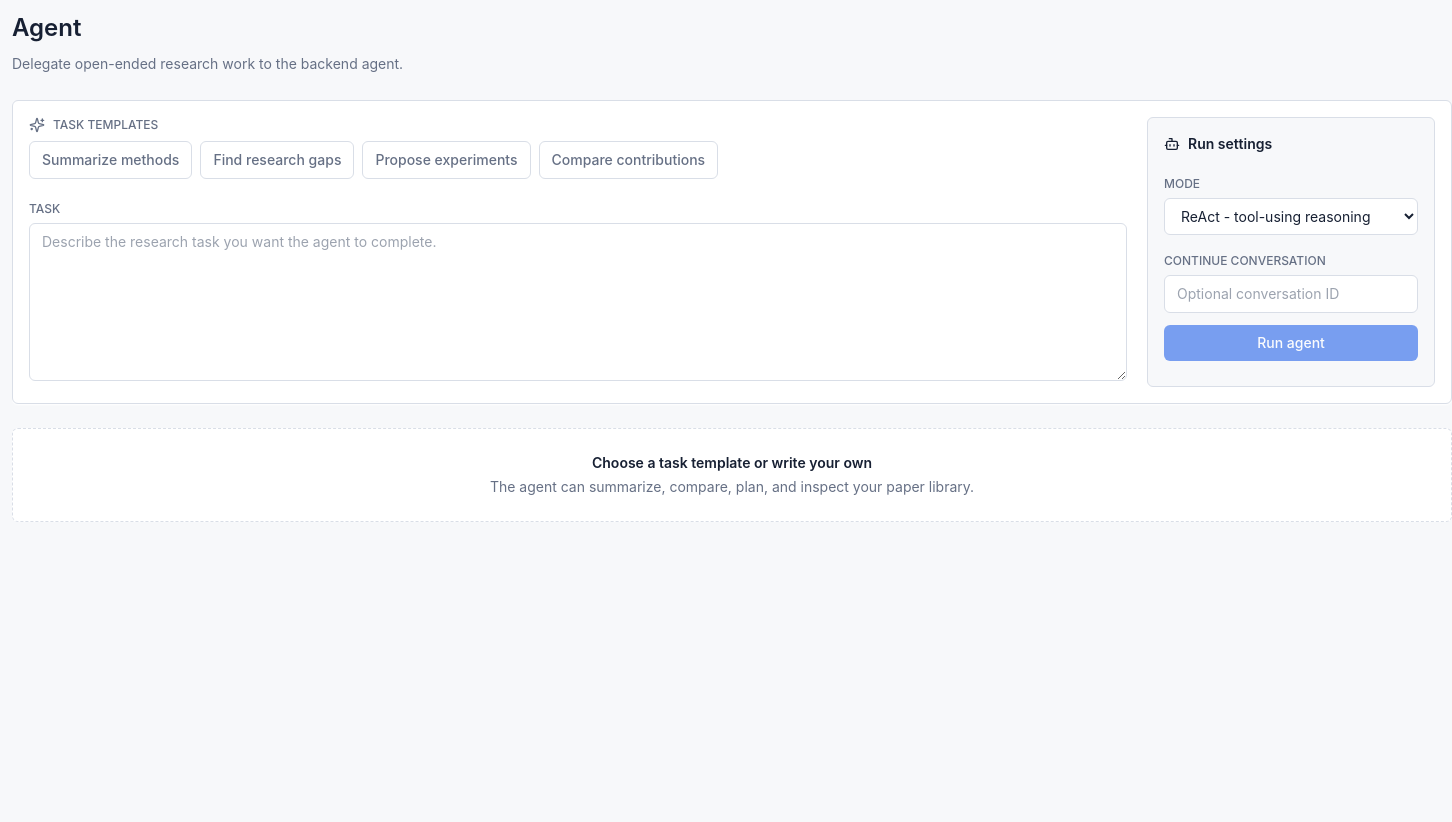
Test case: AgentPage › executes an agent task
Click the button "Summarize methods" at (111, 160), box x1=29 y1=141 x2=192 y2=179
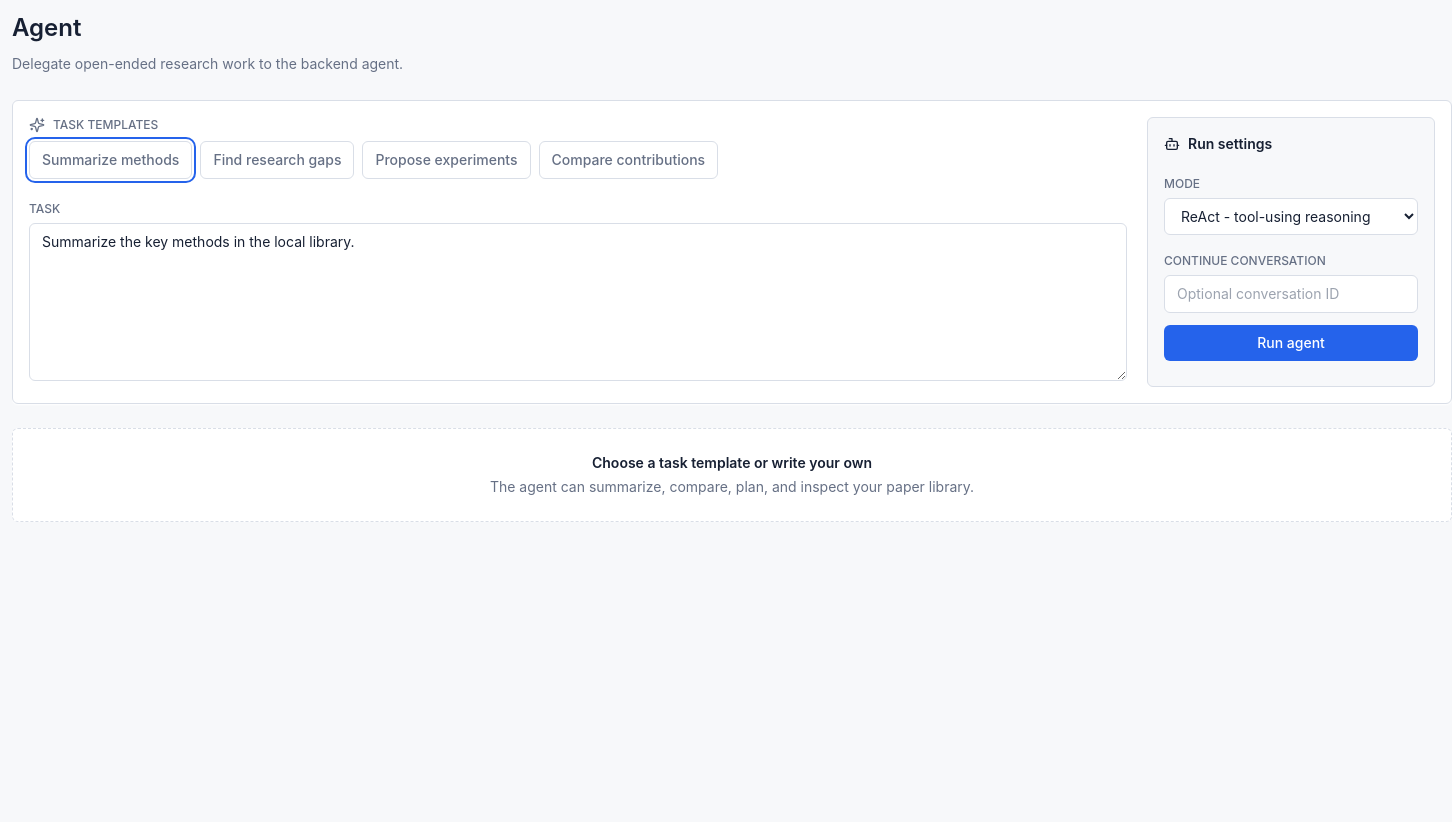
Now the text box showing "Summarize the key methods in the local library." is shown
Replace the text in the text box with placeholder "Describe the research task you want the agent to complete." with "Summarize papers" at (578, 302), box x1=29 y1=223 x2=1127 y2=381
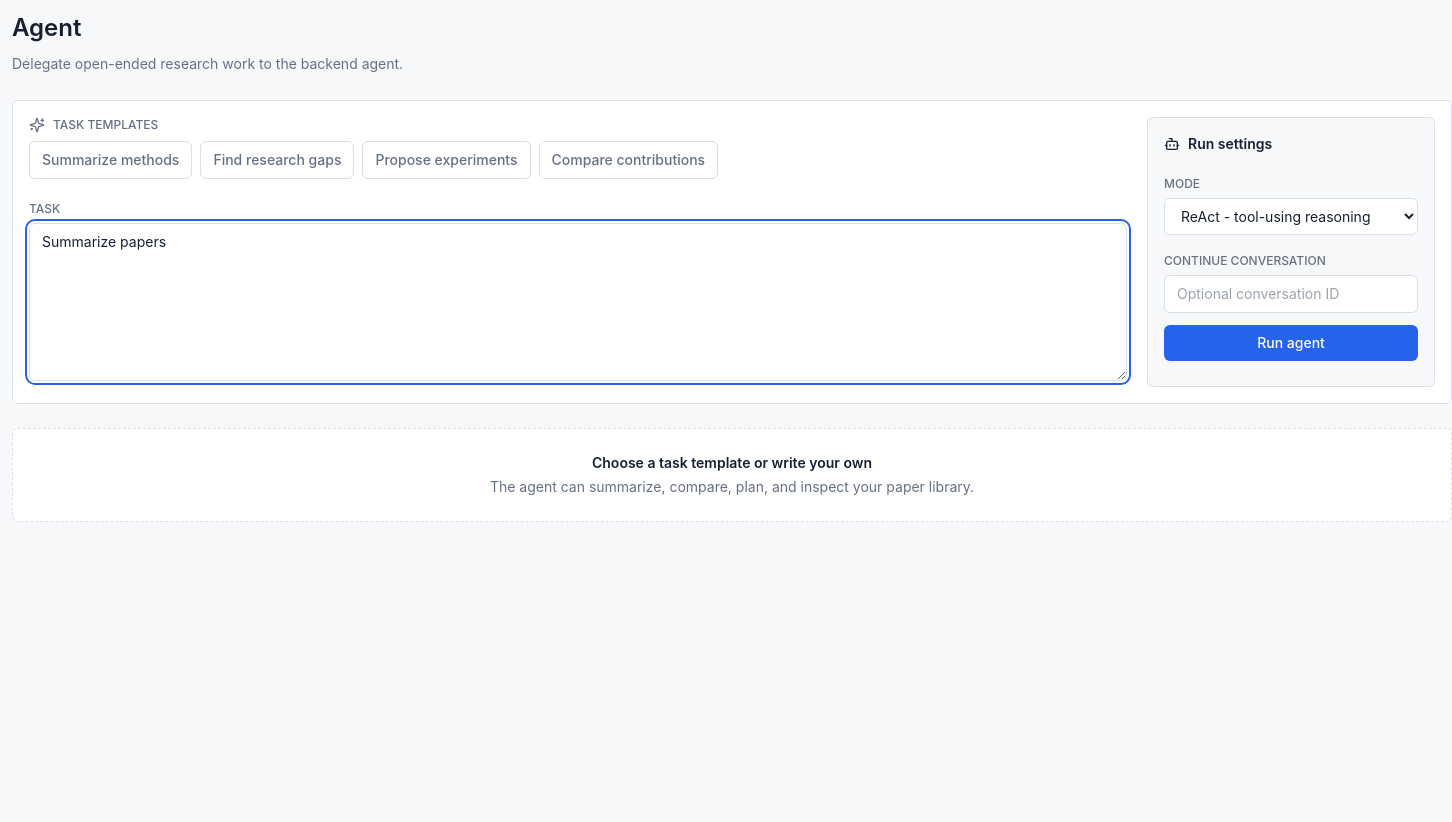
Select "Supervisor - specialist routing" in the dropdown labelled "Mode" at (1291, 216), box x1=1164 y1=198 x2=1418 y2=235
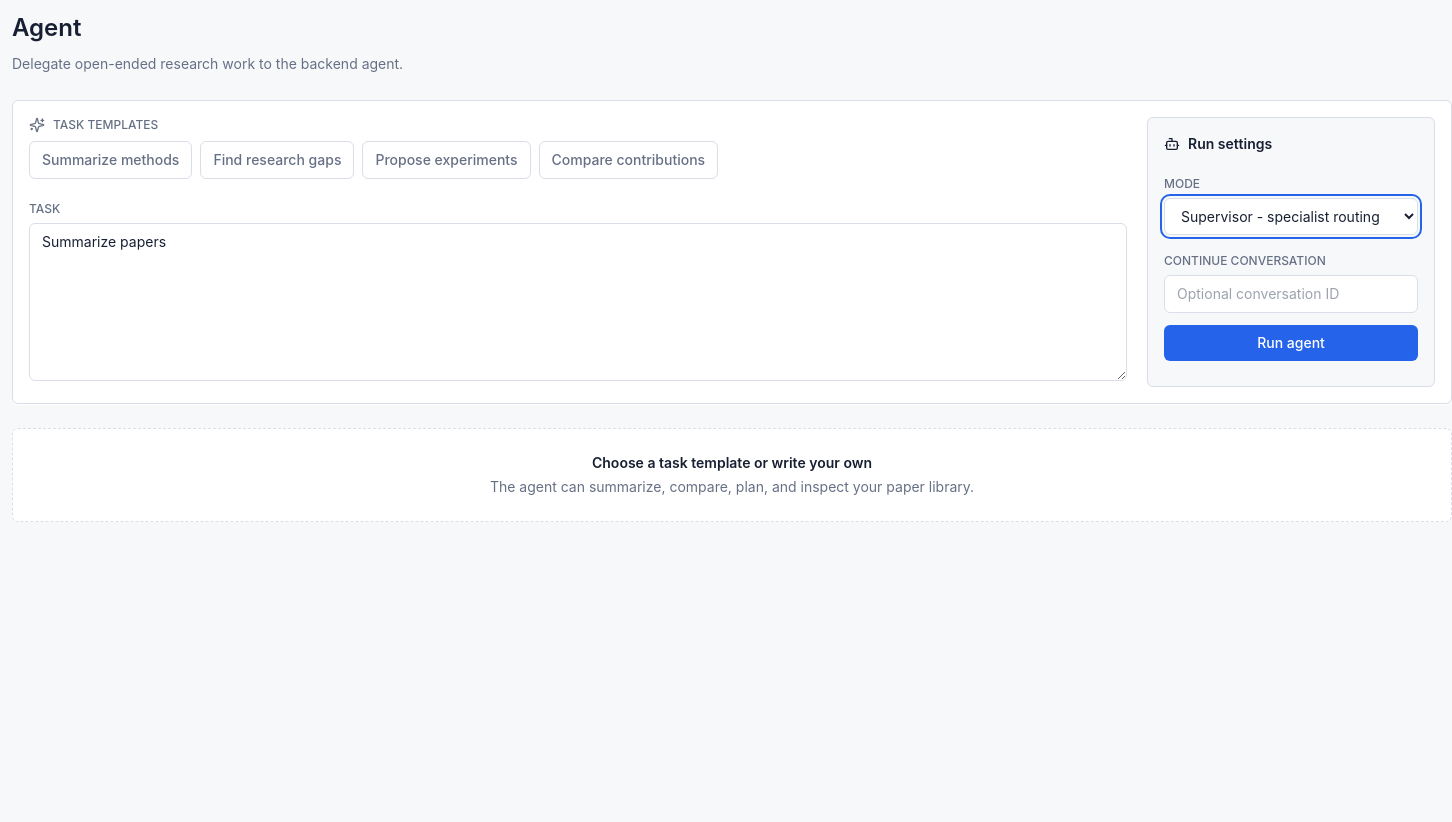
Type "conv_001" into the field labelled "Continue conversation" at (1291, 294), box x1=1164 y1=275 x2=1418 y2=313
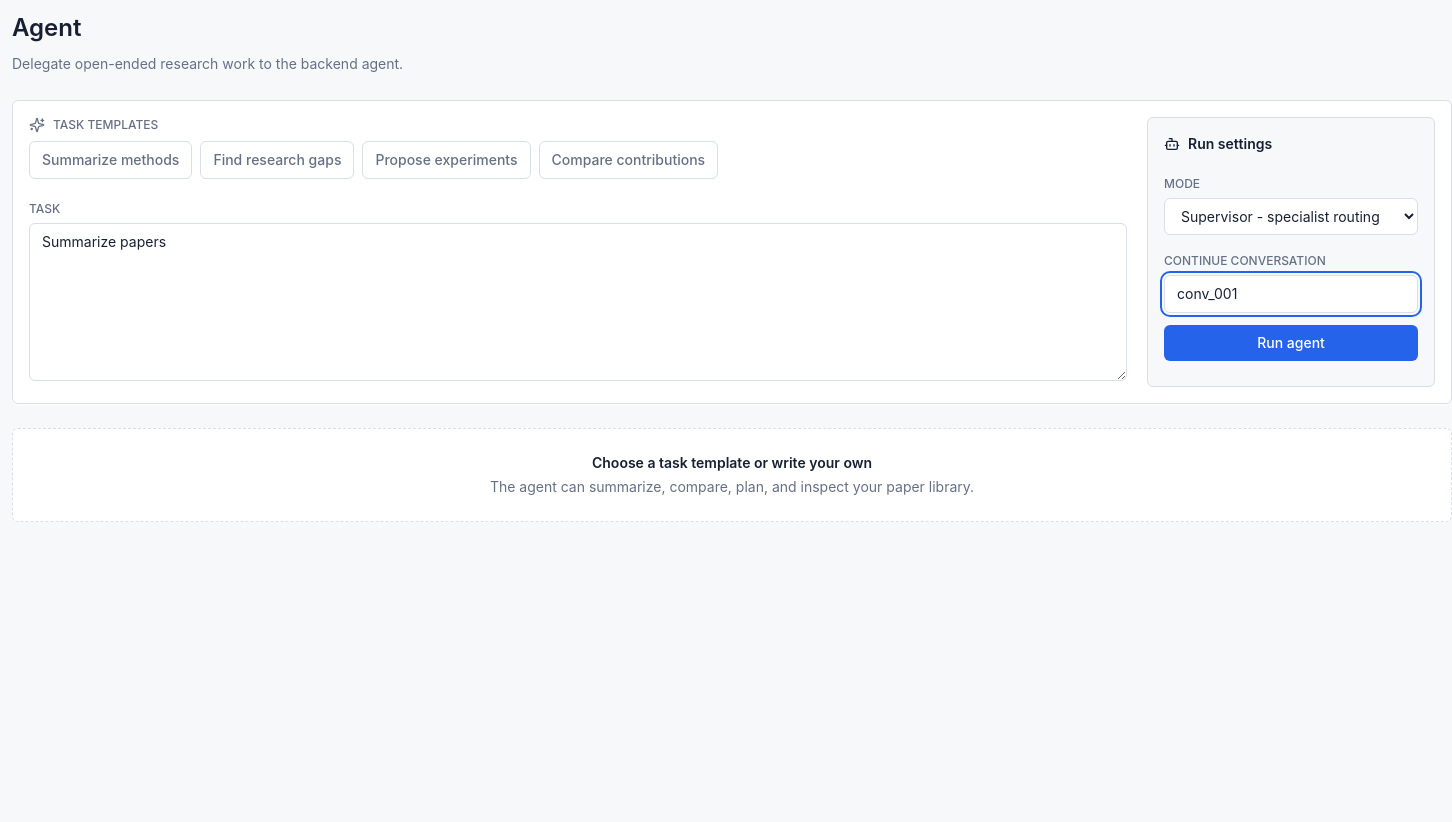
Click the button "Run agent" at (1291, 343), box x1=1164 y1=325 x2=1418 y2=361
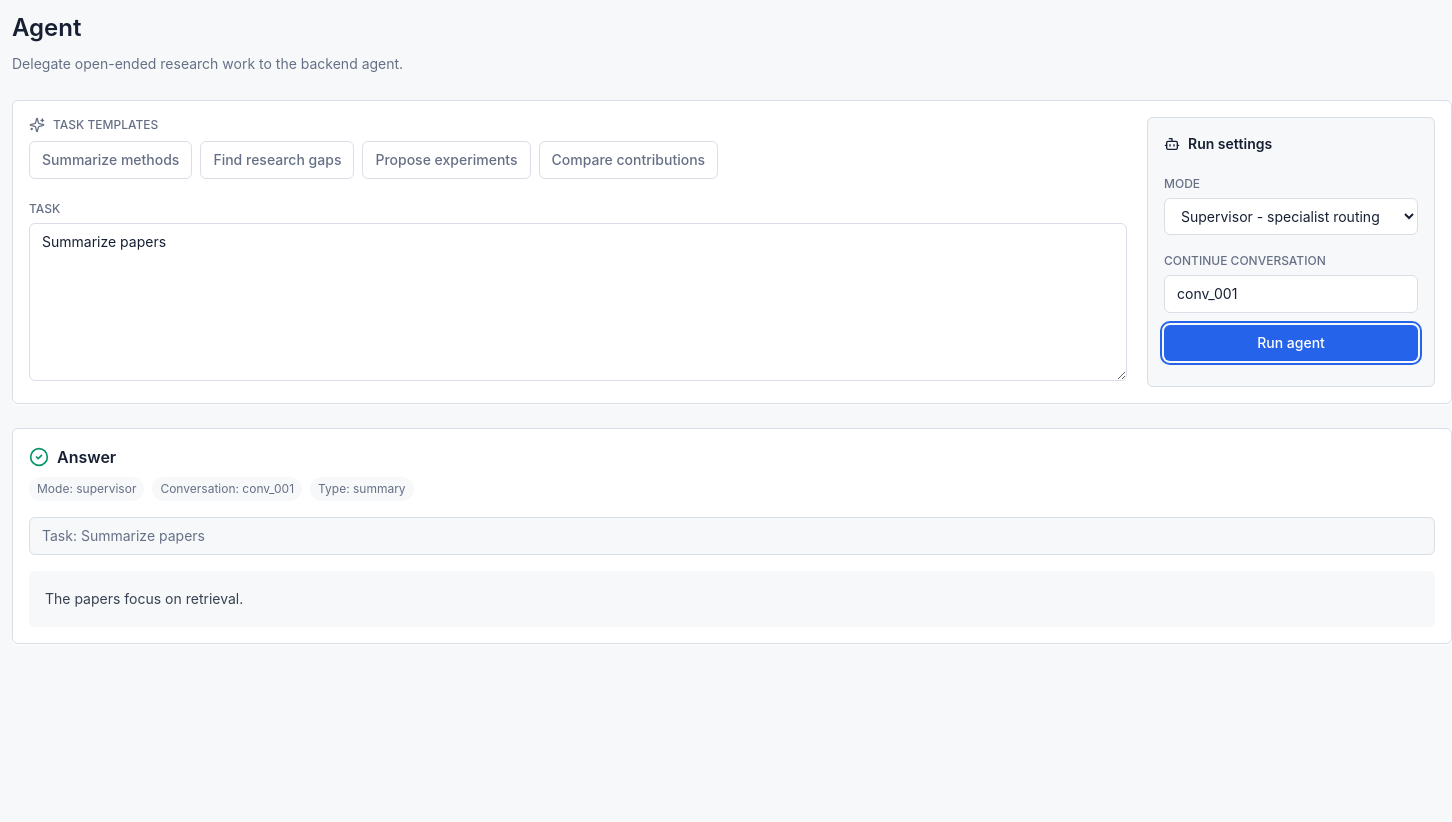
Now the text "The papers focus on retrieval." is shown, box x1=45 y1=590 x2=243 y2=607
Now the heading "Answer" is shown, box x1=29 y1=447 x2=116 y2=467
Now the text "Conversation: conv_001" is shown, box x1=152 y1=477 x2=302 y2=501
